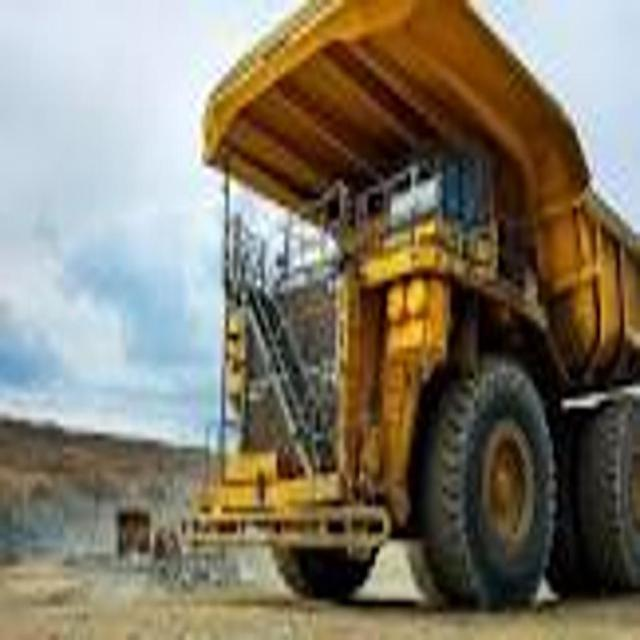dump_truck: (198, 5, 638, 592)
